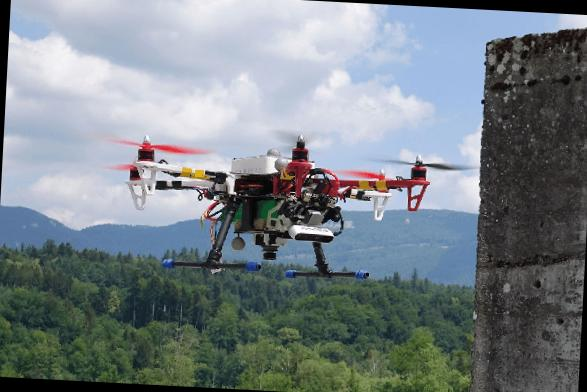drone: (88, 122, 474, 256)
